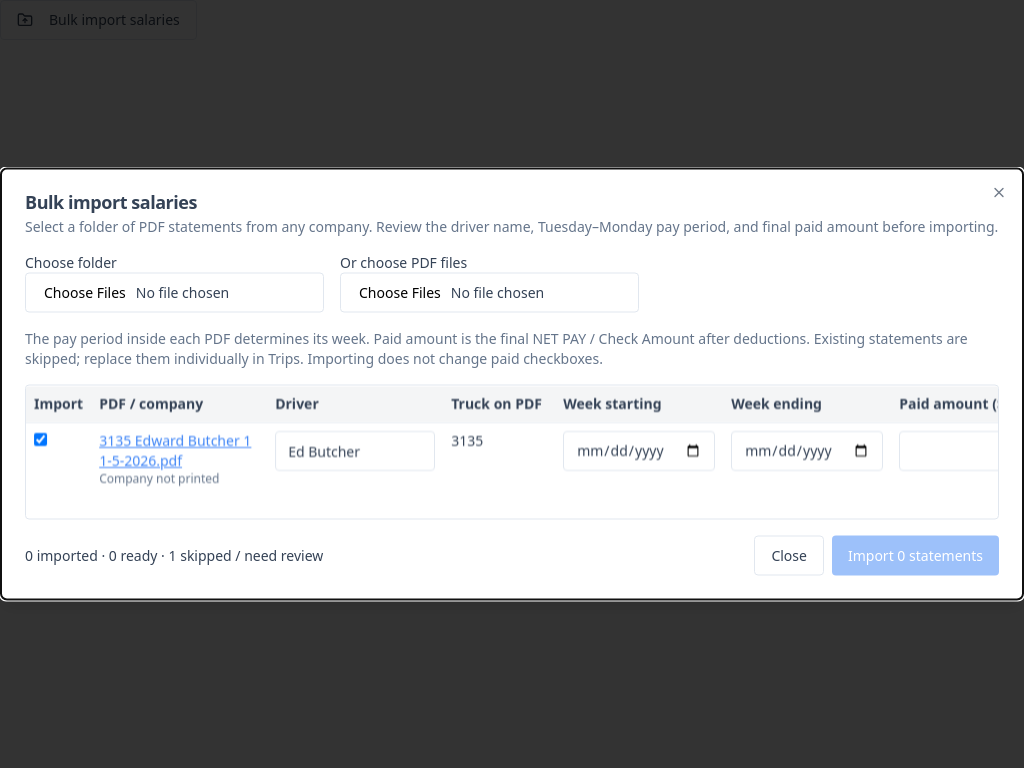
Test: bulk salary folder import › allows correction of an unmatched name, missing amount, and missing pay period
Earlier steps of the test are not shown.
Expected: the button "Import 0 statements" is disabled, [832,536,999,576]
Replace the text in the field named "Driver 1" with "Edward Butcher" at point(355, 450), box [275,430,435,470]
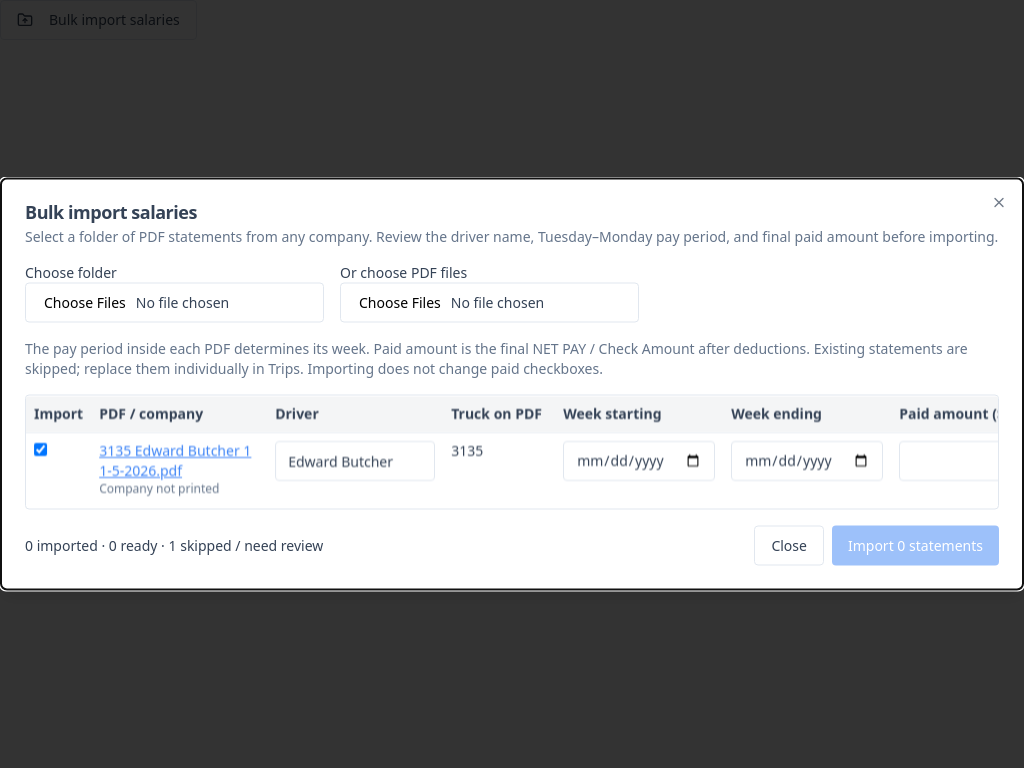
Type "2026-10-20" into the date field named "Week starting 1" at point(639, 460), box [563,440,715,480]
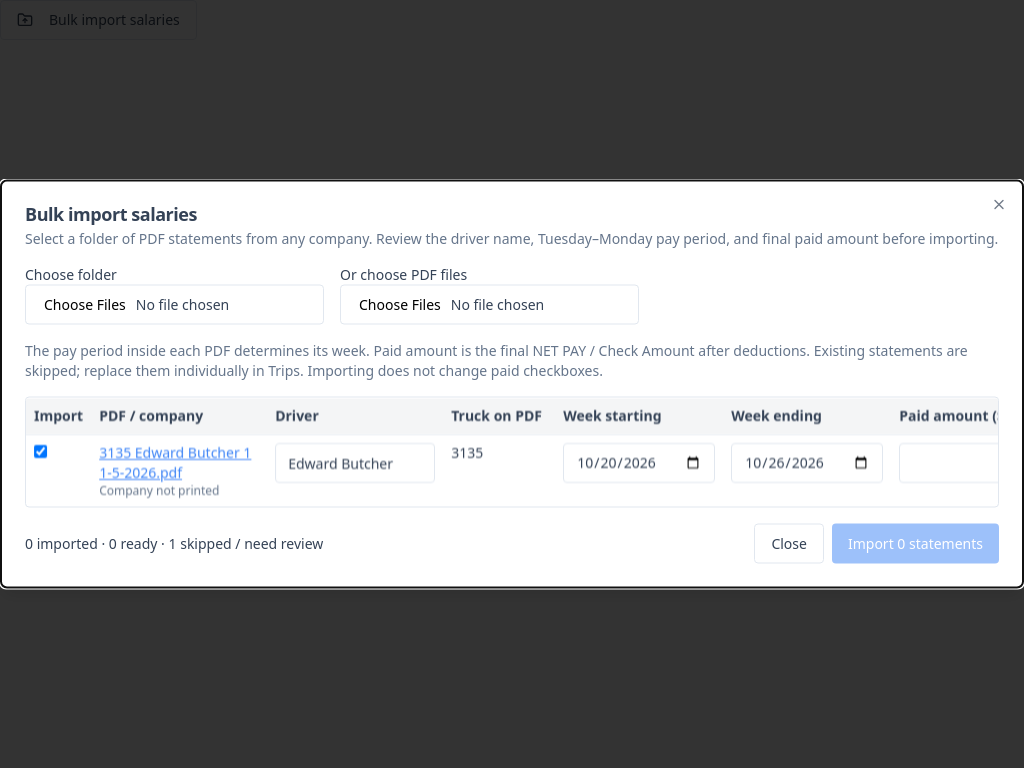
Type "-125.00" into the field named "Paid amount 1" at point(955, 462), box [899,442,1011,482]
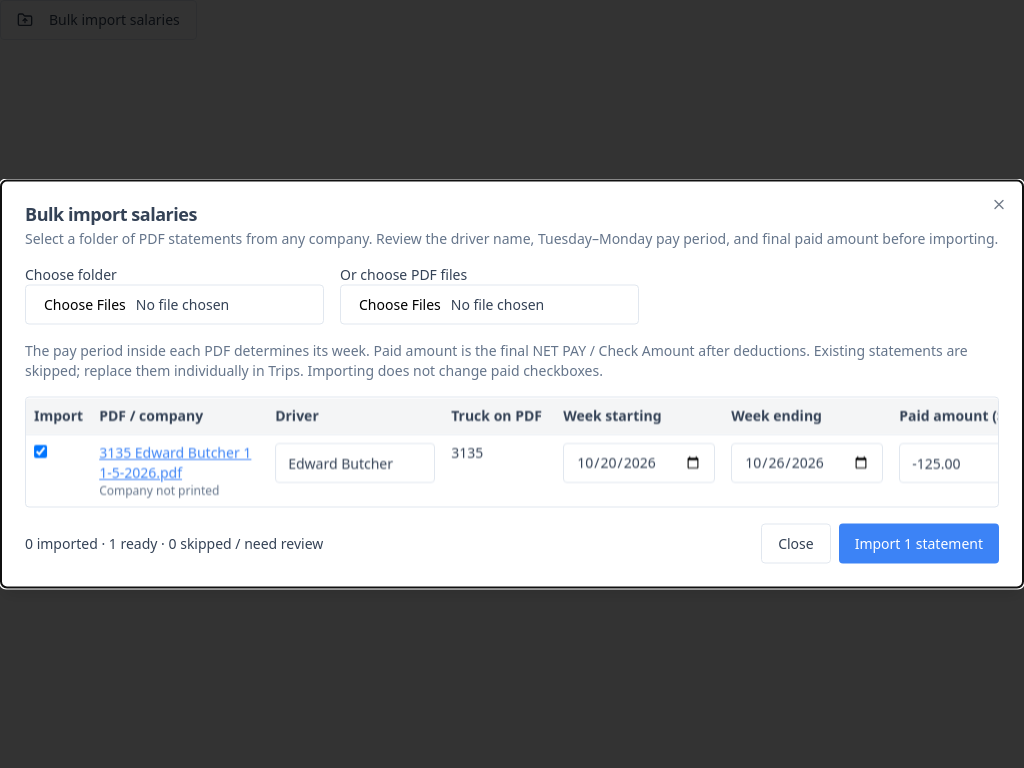
Expected: the date field named "Week ending 1" holds "2026-10-26", [731,442,883,482]
Expected: the button "Import 1 statement" is enabled, [839,524,999,564]
